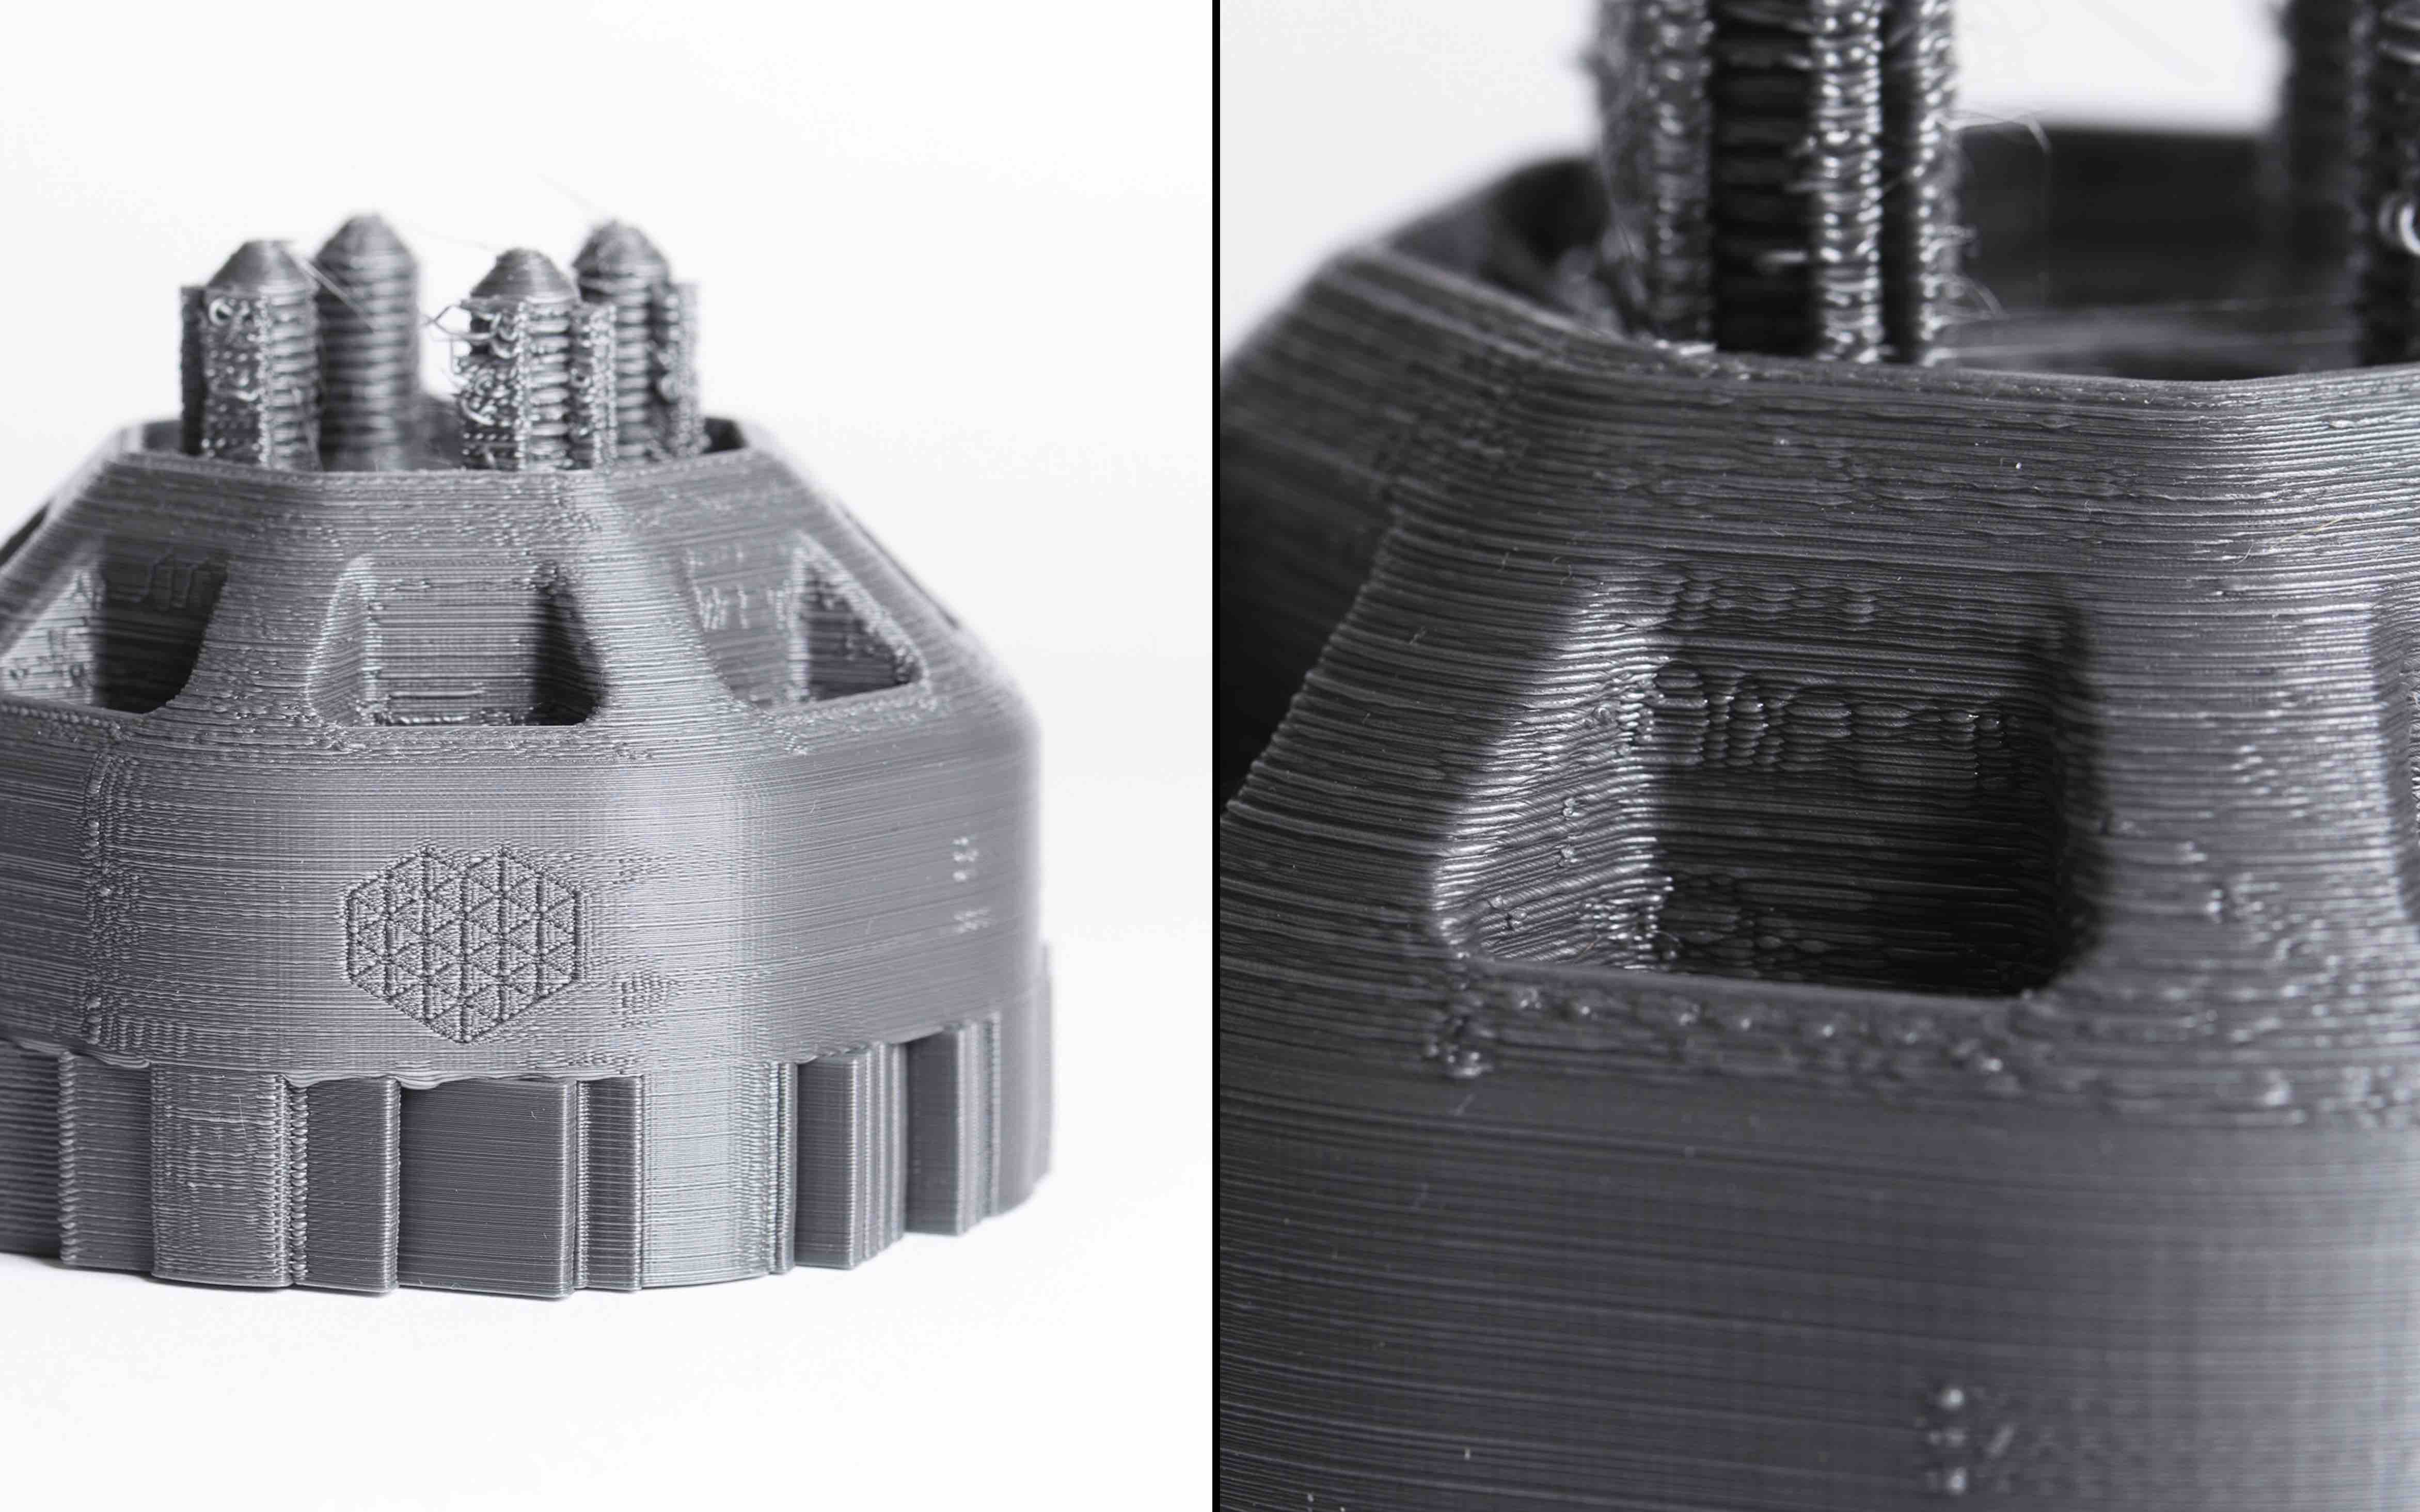3dpoverextrusion: (1476, 962, 2209, 1118), (2159, 845, 2401, 1103)
3dpripples: (1387, 422, 2223, 580), (1230, 634, 1448, 1016), (1683, 596, 2007, 789), (2122, 608, 2394, 822), (1470, 733, 1620, 942), (145, 857, 324, 1016), (669, 850, 801, 1050), (2270, 406, 2408, 584), (1812, 30, 1880, 327), (387, 577, 537, 709), (1488, 608, 1660, 723), (169, 1090, 277, 1247), (671, 1092, 751, 1265)
3dpstringing: (411, 272, 524, 449)
